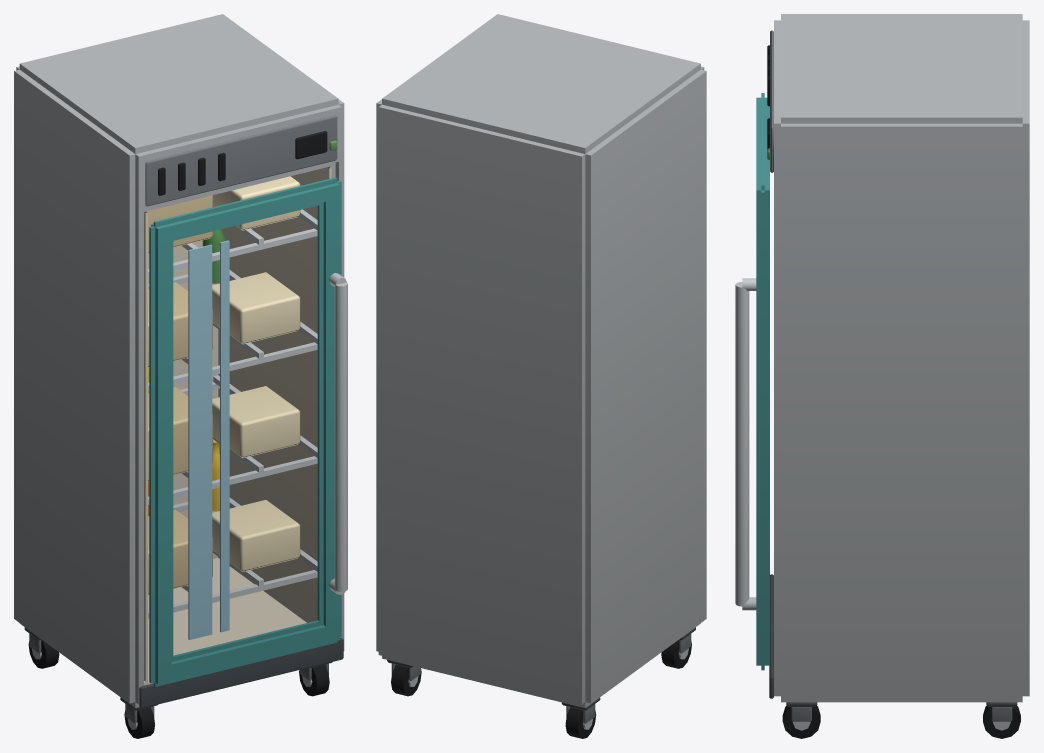
File: SM_ReachIn_Glass_075.glb
3 renders of one model, left to right at view 1: azimuth 30°, elevation 25°; view 2: azimuth 150°, elevation 25°; view 3: azimuth 270°, elevation 25°, orthographic. The views are drawn at different scales.
Parts seen in each view (by area): view 1: SM_ReachIn_Glass_075; view 2: SM_ReachIn_Glass_075; view 3: SM_ReachIn_Glass_075.
Part boxes in pixels (x1,y1,x2,y2): SM_ReachIn_Glass_075: (14,14,347,738); SM_ReachIn_Glass_075: (376,14,706,738); SM_ReachIn_Glass_075: (735,14,1029,738).
Size of the model in its own units: 0.75 by 2 by 0.852.
Materials: 1 (1 with a texture image).
